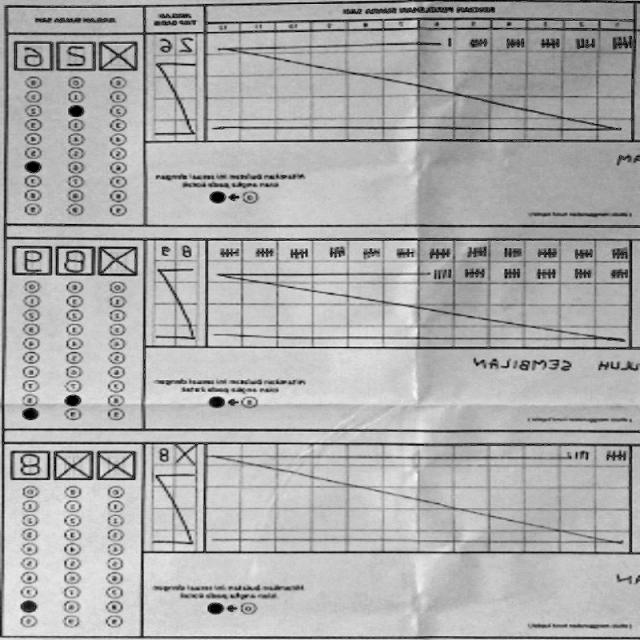Suara: (10, 34, 142, 74), (7, 442, 139, 482), (11, 240, 142, 280)
